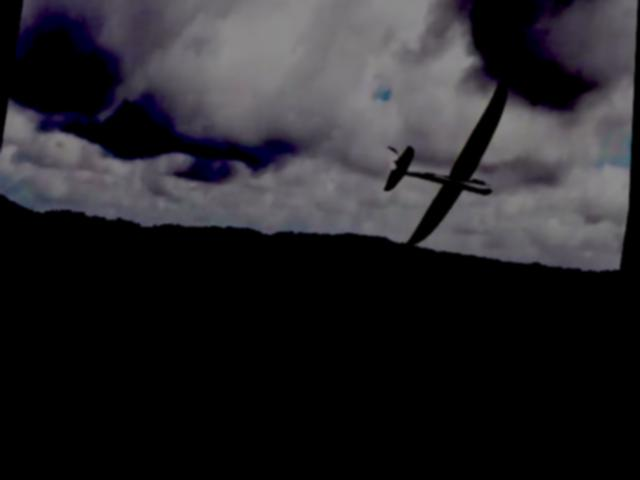iha: (377, 76, 526, 262)
